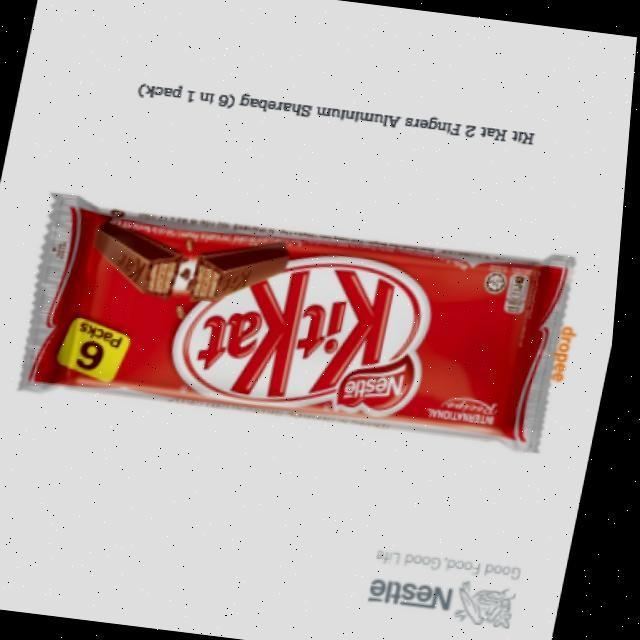kitkat_chocolate: (45, 210, 570, 455)
